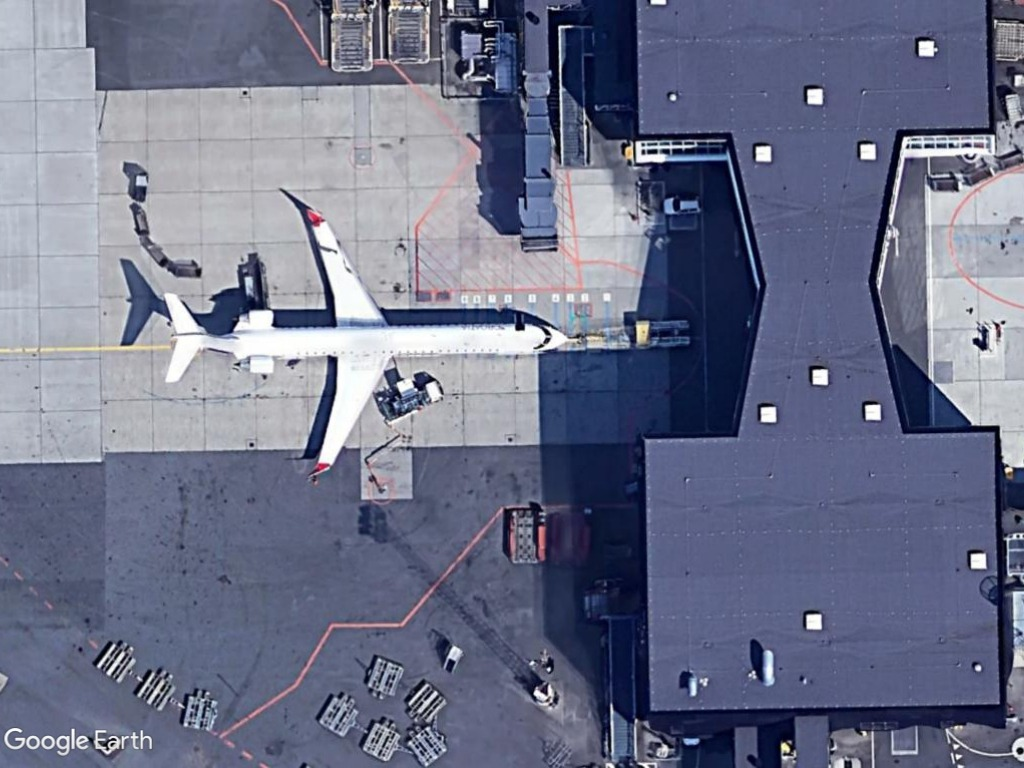chartered: (143, 194, 580, 485)
